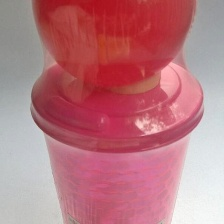glass: (19, 51, 214, 224)
